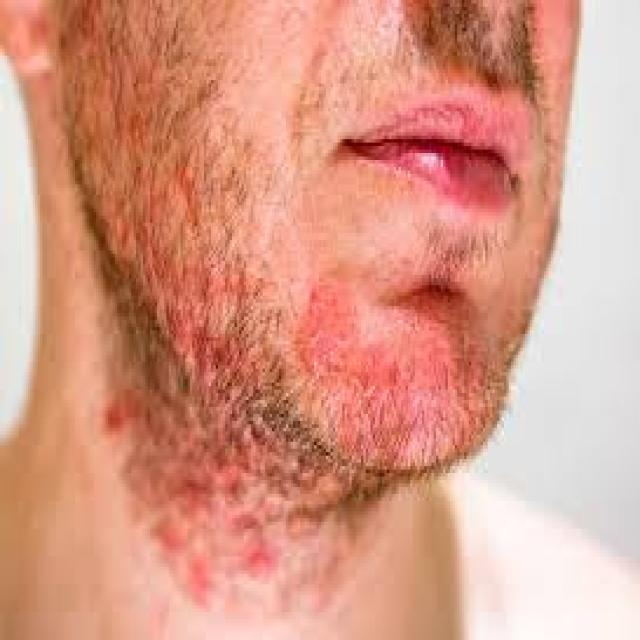Eczema: (89, 70, 237, 332), (114, 398, 271, 597), (298, 283, 452, 463)
